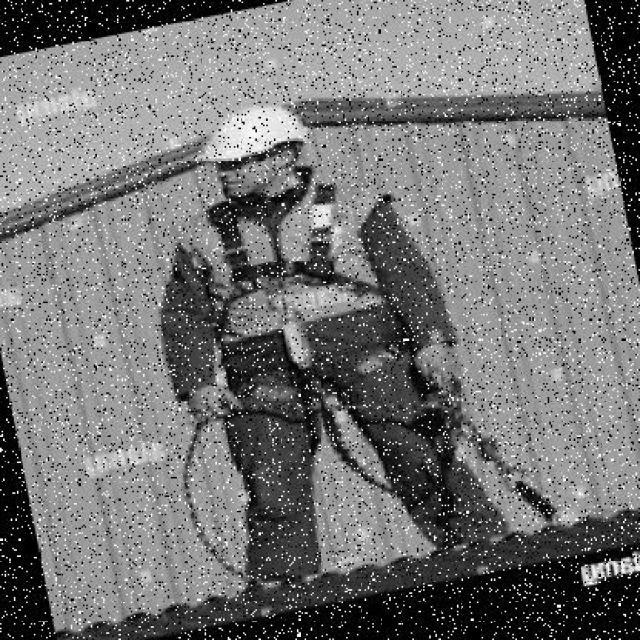Arnes_seguridad: (174, 166, 418, 419)
